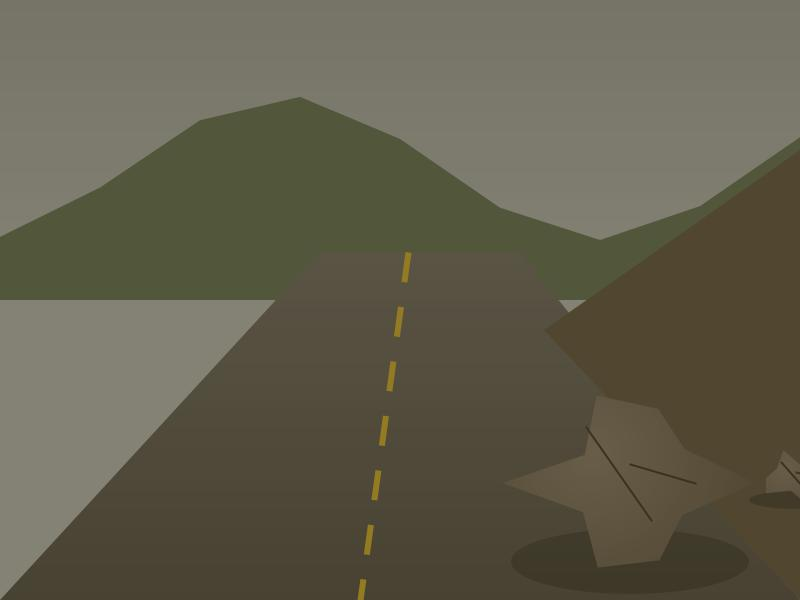ROAD_OBSTACLE: (521, 390, 739, 576), (759, 452, 800, 504)
